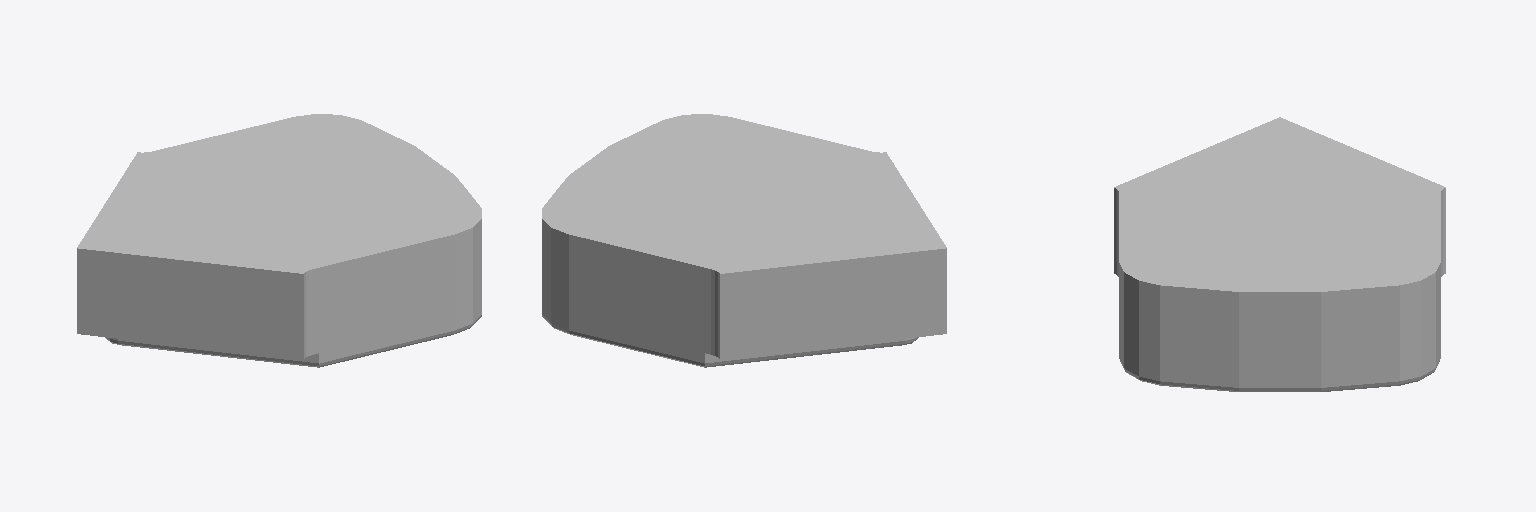
The model's file is DPad-Right.obj.
The picture shows the model from 3 angles: view 1: azimuth 30°, elevation 25°; view 2: azimuth 150°, elevation 25°; view 3: azimuth 270°, elevation 25°; orthographic projection.
Visible parts, largest first — view 1: DPad-Right; view 2: DPad-Right; view 3: DPad-Right.
Part boxes in pixels (left/top/right/bottom): DPad-Right: left=77, top=114, right=481, bottom=367; DPad-Right: left=542, top=114, right=946, bottom=367; DPad-Right: left=1114, top=117, right=1445, bottom=391.
Size of the model in its own units: 10.95 by 3 by 8.79.